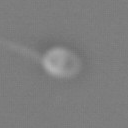normal: (1, 37, 44, 63)
